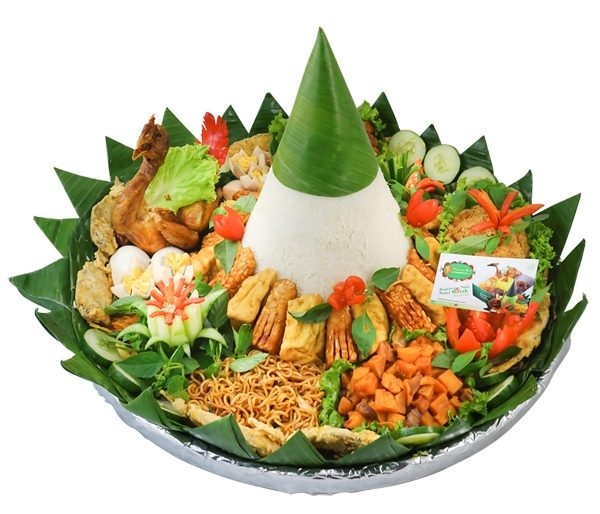tumpeng: (194, 47, 450, 296)
